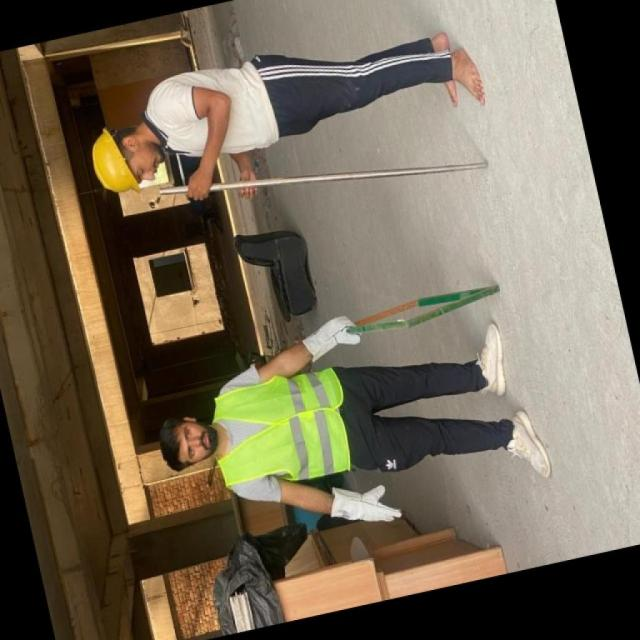Gloves-Detection: (328, 480, 404, 529), (301, 313, 357, 360)
